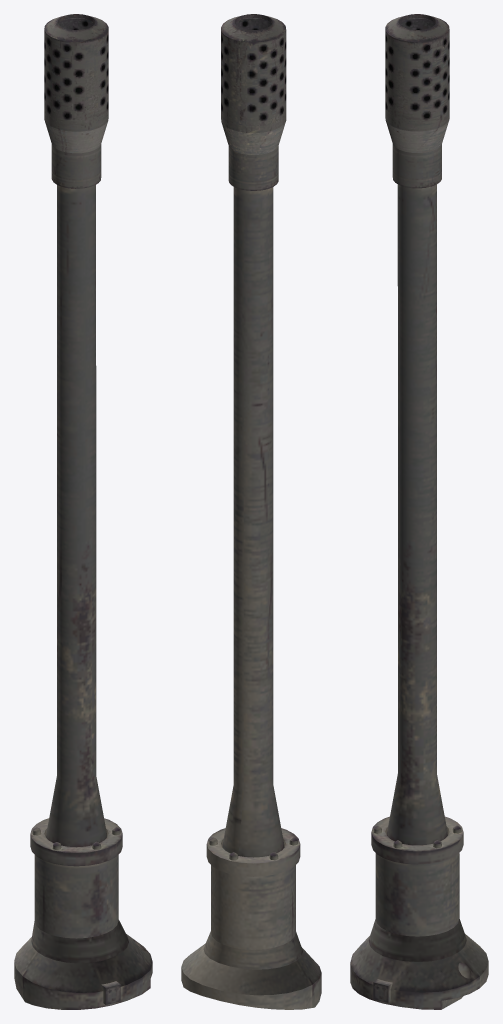
File: Gun_07.glb
3 renders of one model, left to right at view 1: azimuth 30°, elevation 25°; view 2: azimuth 150°, elevation 25°; view 3: azimuth 330°, elevation 25°, orthographic.
Parts seen in each view (by area): view 1: set_0_group_0; view 2: set_0_group_0; view 3: set_0_group_0.
Boxes of the visible parts, x1=… form: set_0_group_0: x1=14, y1=14, x2=152, y2=1009; set_0_group_0: x1=181, y1=14, x2=321, y2=1009; set_0_group_0: x1=350, y1=14, x2=488, y2=1009.
Size of the model in its own units: 0.7114 by 5.4 by 0.6768.
Materials: 1 (1 with a texture image).
